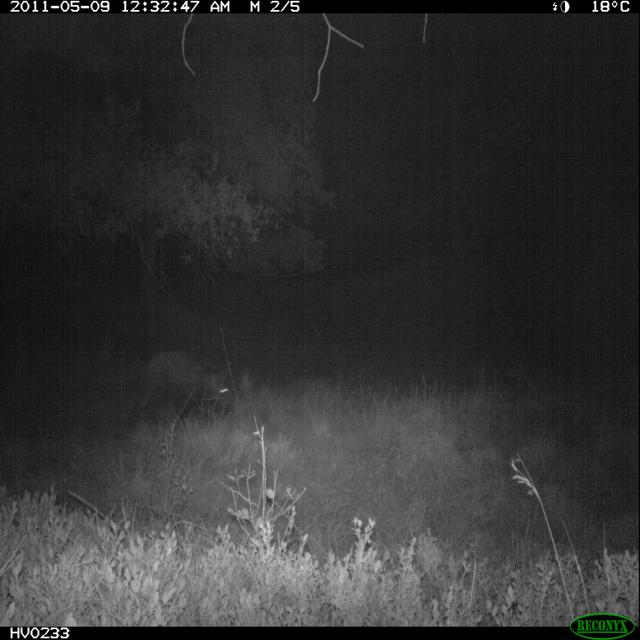boar: (123, 335, 246, 434)
